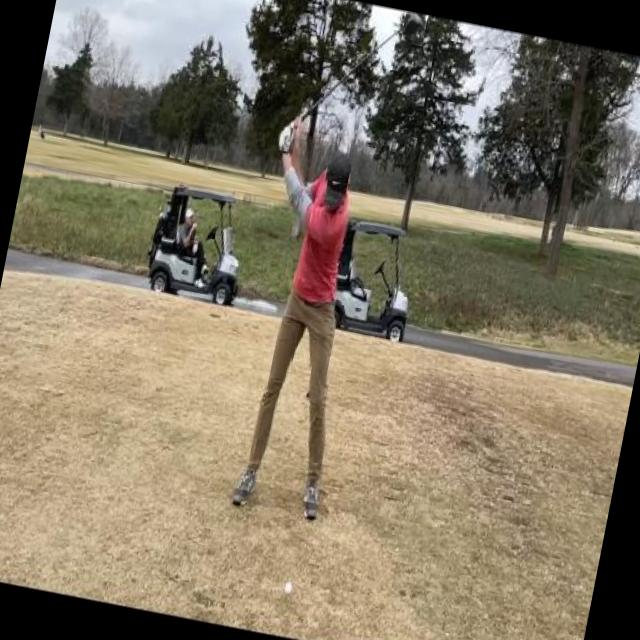club head: (401, 10, 428, 46)
